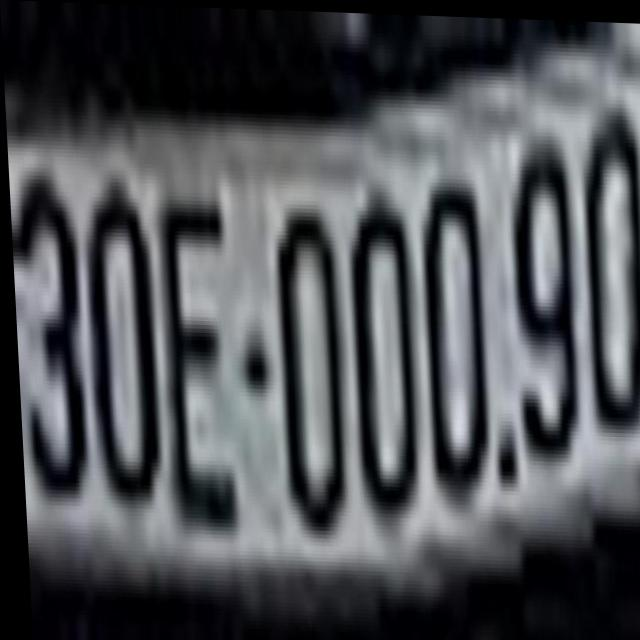0: (78, 169, 163, 524), (268, 182, 344, 537), (413, 163, 488, 510), (343, 196, 414, 512), (577, 106, 640, 437)
3: (6, 155, 87, 521)
9: (505, 139, 581, 478)
E: (155, 171, 239, 538)
